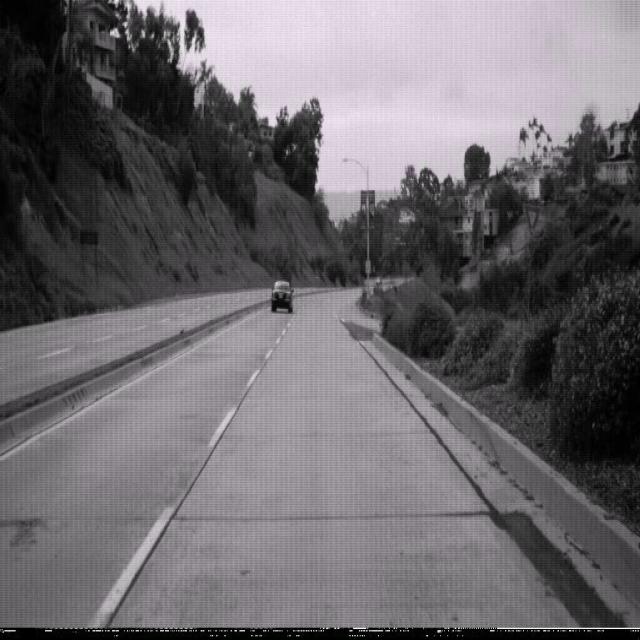yield: (523, 201, 541, 234)
